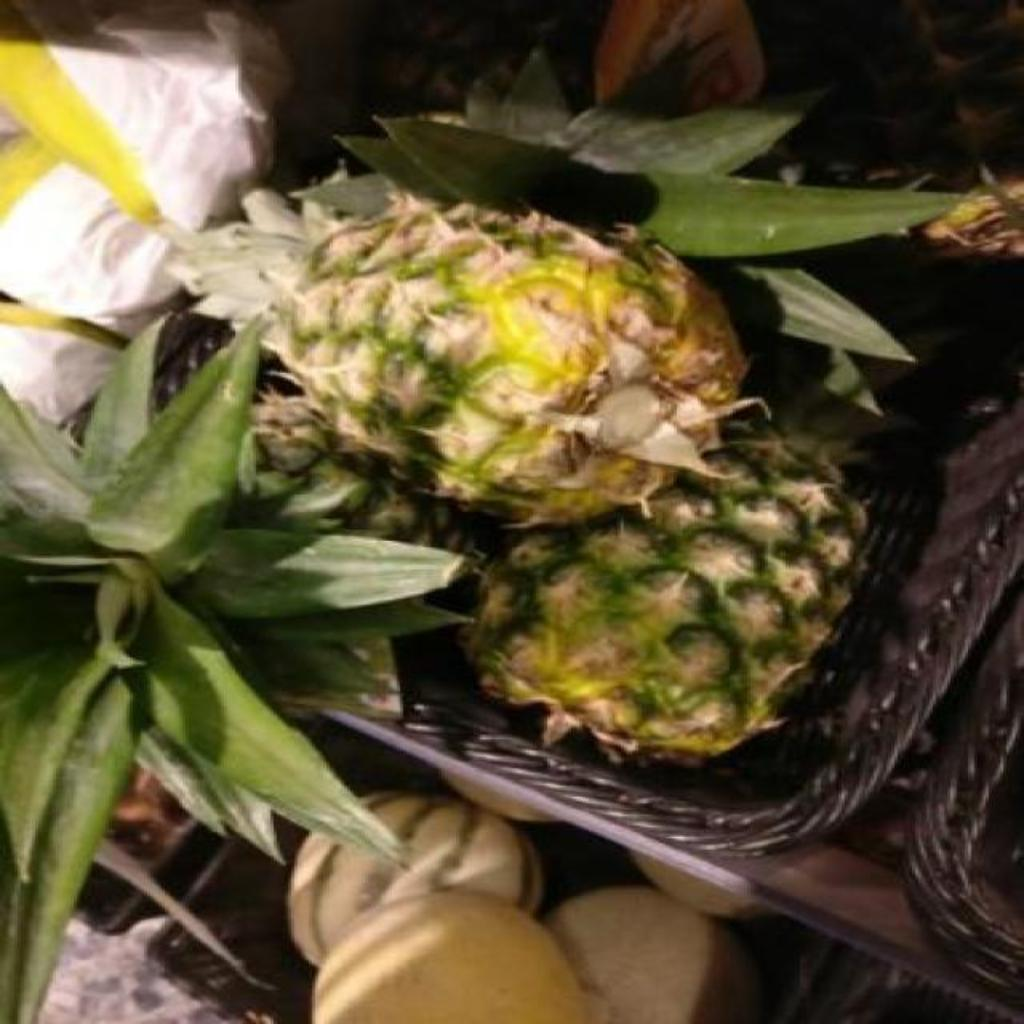pineapple: (0, 324, 464, 1023), (179, 186, 747, 524), (469, 390, 867, 759)
